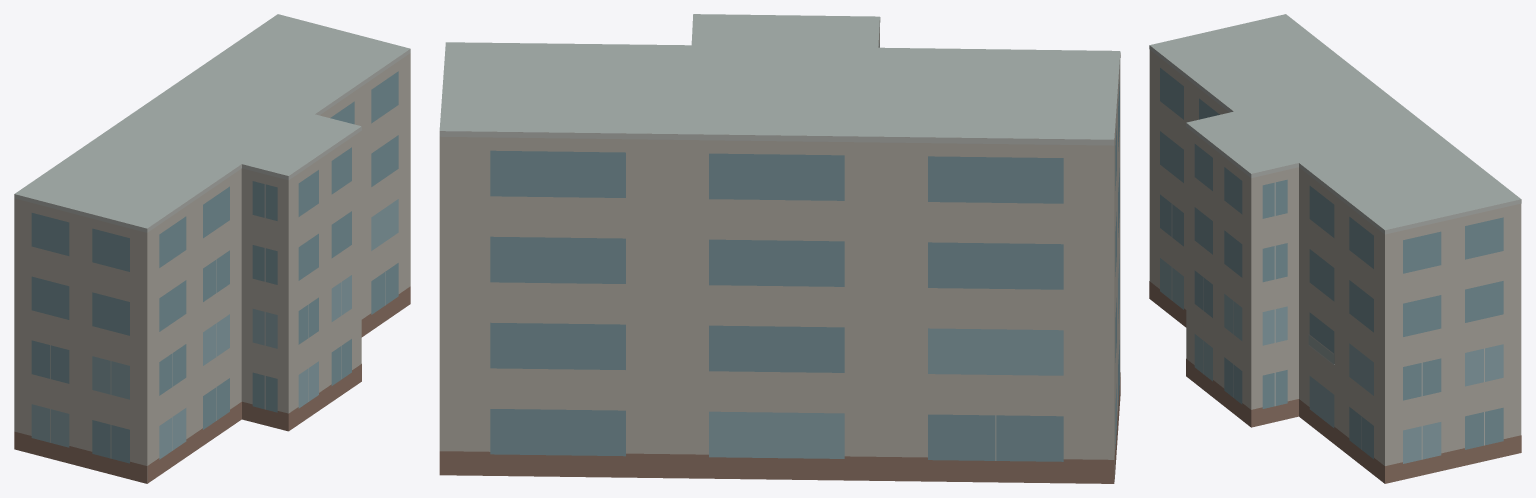
The model's file is survey-upis-32727202.glb.
3 views of the same model, side by side, from view 1: azimuth 30°, elevation 25°; view 2: azimuth 150°, elevation 25°; view 3: azimuth 270°, elevation 25° (orthographic). The views are drawn at different scales.
Parts seen in each view (by area): view 1: survey-upis-32727202.tmp; view 2: survey-upis-32727202.tmp; view 3: survey-upis-32727202.tmp.
Boxes of the visible parts, x1,y1,x2,y2 form: survey-upis-32727202.tmp: (14, 14, 410, 483); survey-upis-32727202.tmp: (439, 14, 1120, 483); survey-upis-32727202.tmp: (1149, 14, 1521, 483).
Size of the model in its own units: 26.71 by 14.6 by 19.42.
